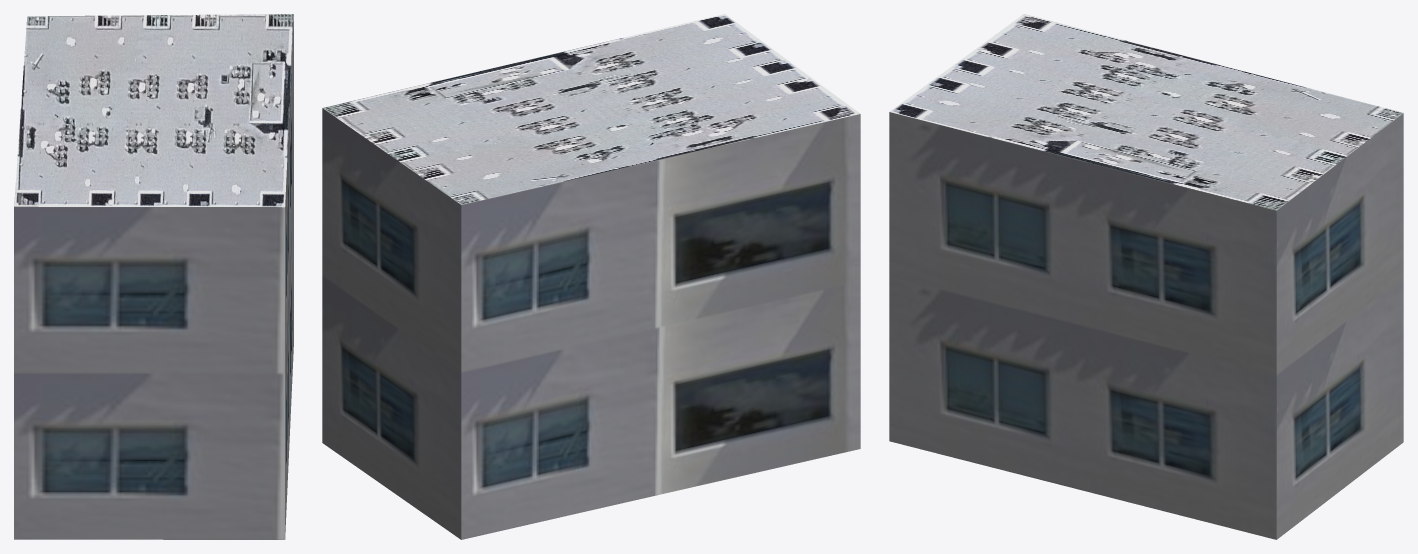
The model's file is ResTex__3379.fbx.
3 views of the same model, side by side, from view 1: azimuth 30°, elevation 25°; view 2: azimuth 150°, elevation 25°; view 3: azimuth 270°, elevation 25° (orthographic).
Parts seen in each view (by area): view 1: CityEngineMaterial_10_m, CityEngineMaterial_8_m; view 2: CityEngineMaterial_10_m, CityEngineMaterial_8_m; view 3: CityEngineMaterial_10_m, CityEngineMaterial_8_m.
Part boxes in pixels (<box>): CityEngineMaterial_10_m: <box>14,14,293,539</box>; CityEngineMaterial_8_m: <box>14,14,293,207</box>; CityEngineMaterial_10_m: <box>322,108,860,539</box>; CityEngineMaterial_8_m: <box>323,14,859,204</box>; CityEngineMaterial_10_m: <box>889,112,1403,539</box>; CityEngineMaterial_8_m: <box>889,14,1403,210</box>.
Size of the model in its own units: 7.68 by 6 by 8.5.
2 materials, 2 textured.
